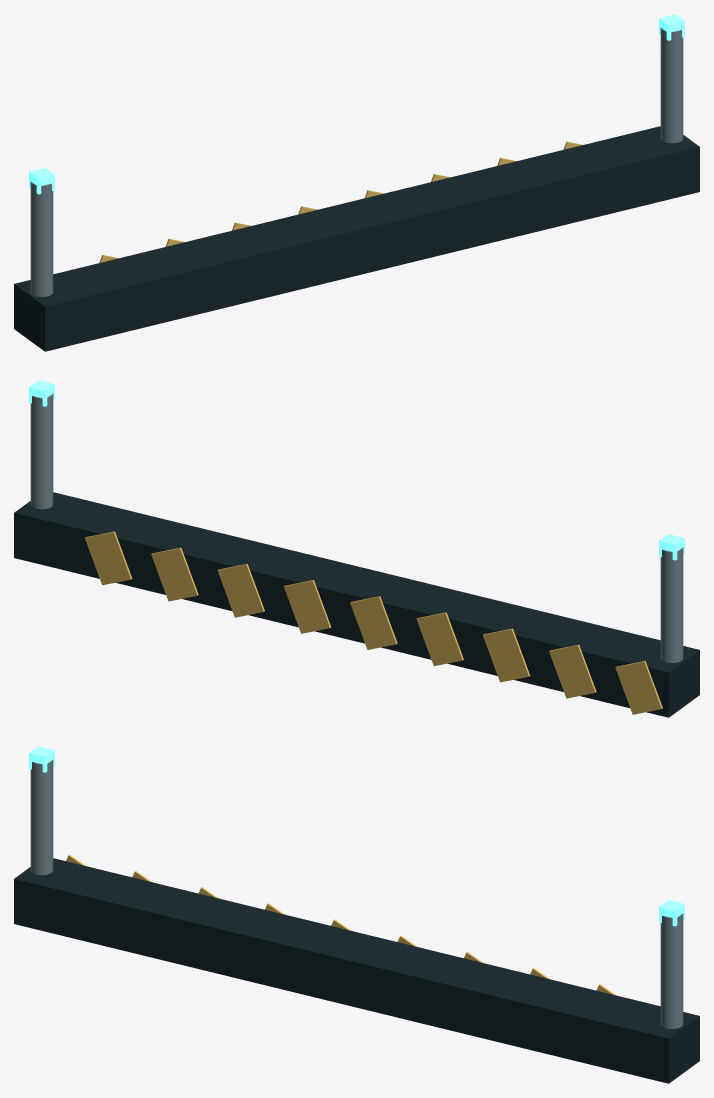
Rendered from jump-barrier.glb.
The picture shows the model from 3 angles, top to bottom: view 1: azimuth 30°, elevation 25°; view 2: azimuth 150°, elevation 25°; view 3: azimuth 330°, elevation 25°; orthographic projection.
Parts seen in each view (by area): view 1: jump-barrier; view 2: jump-barrier; view 3: jump-barrier.
Boxes of the visible parts, <box> form: jump-barrier: <box>14,14,699,351</box>; jump-barrier: <box>14,380,699,717</box>; jump-barrier: <box>14,746,699,1083</box>.
Bounding box in the file's own units: 7.9 × 1.94 × 0.6775.
